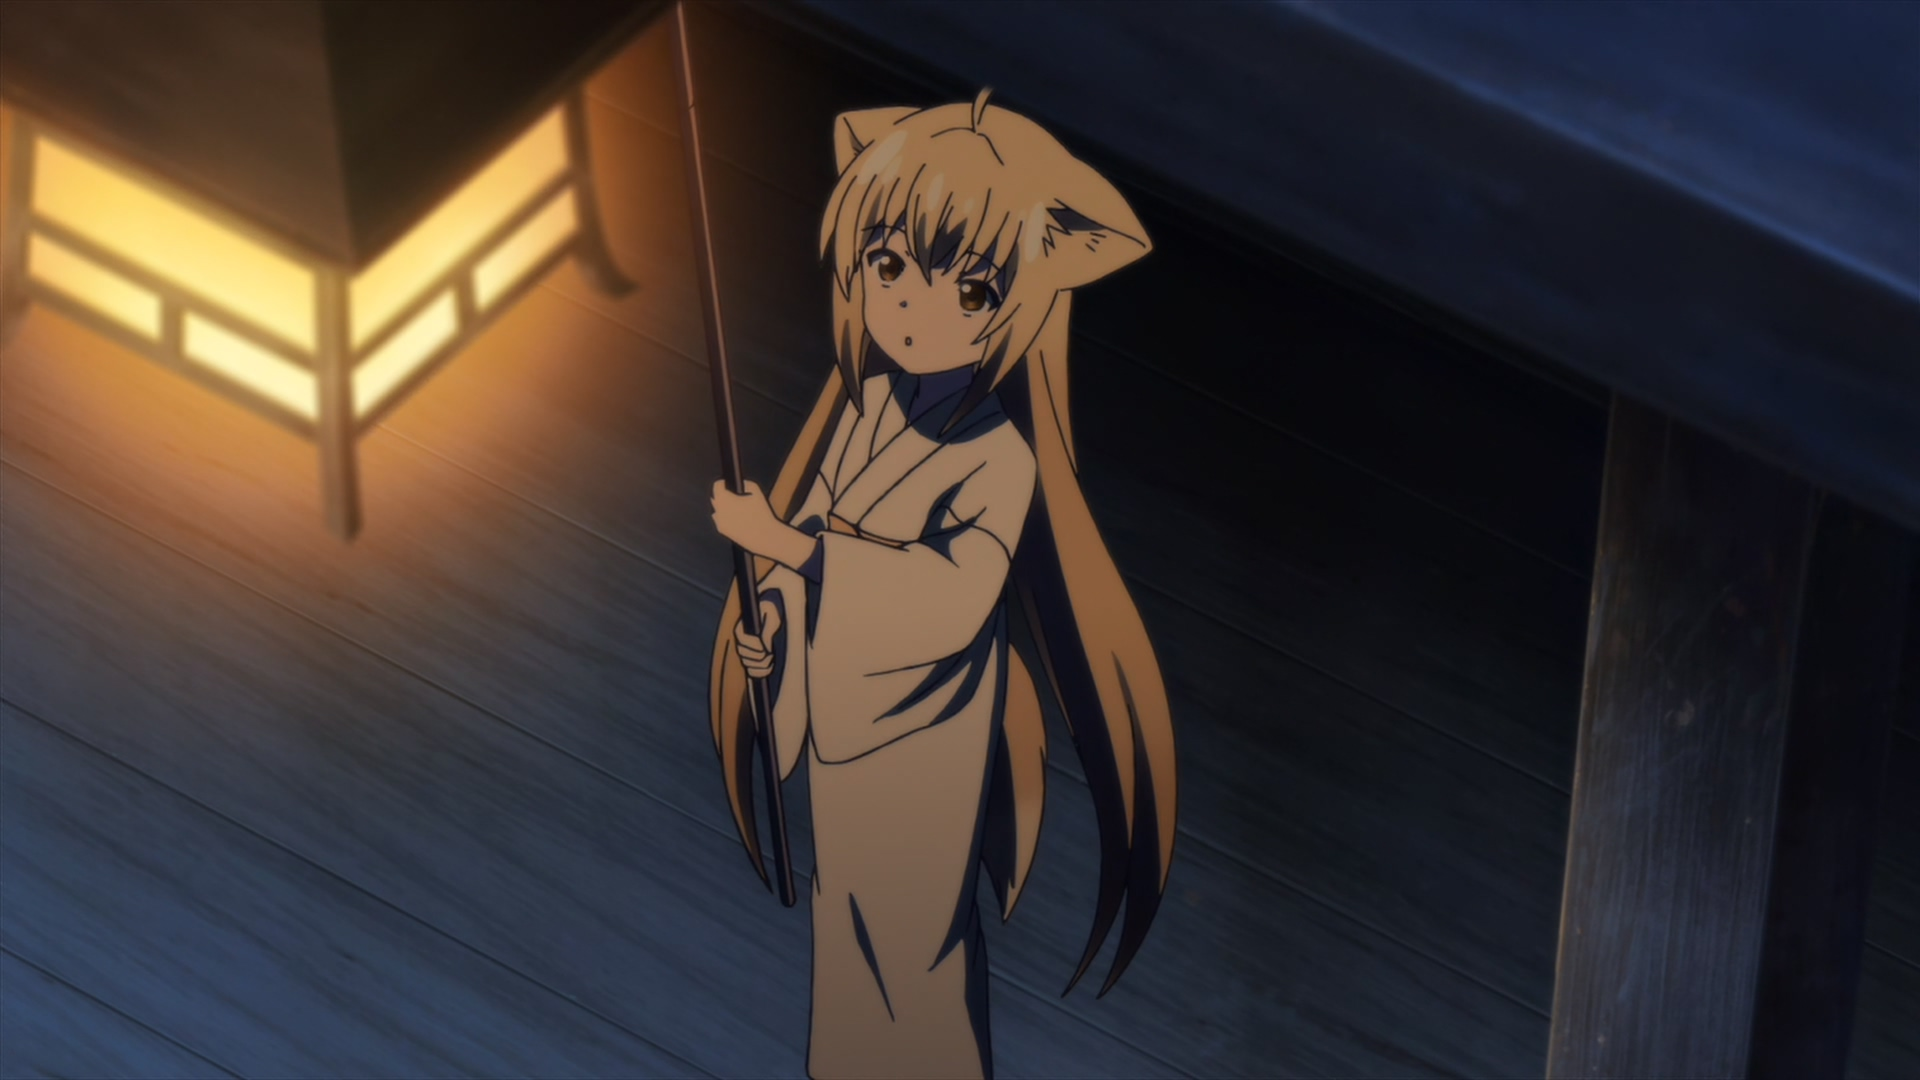柚: (705, 76, 1178, 1080)
